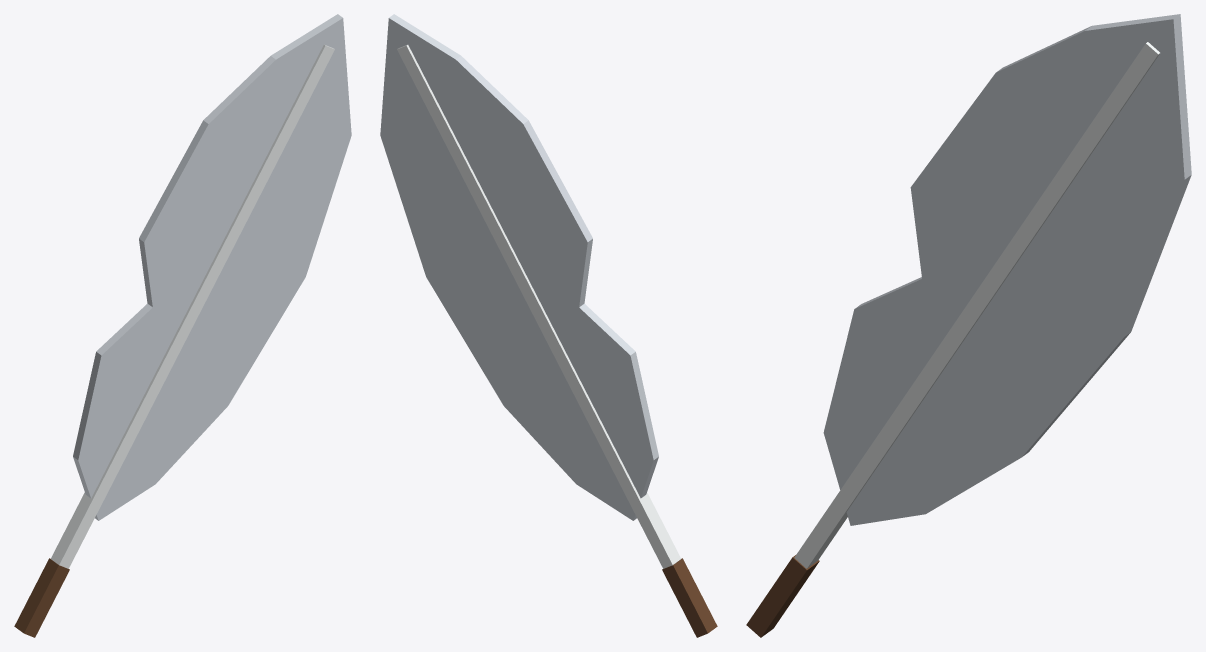
The model's file is Feather.obj.
The picture shows the model from 3 angles, left to right: view 1: azimuth 30°, elevation 25°; view 2: azimuth 150°, elevation 25°; view 3: azimuth 330°, elevation 25°; orthographic projection. The views are drawn at different scales.
Size of the model in its own units: 1.77 by 2.79 by 0.09.
